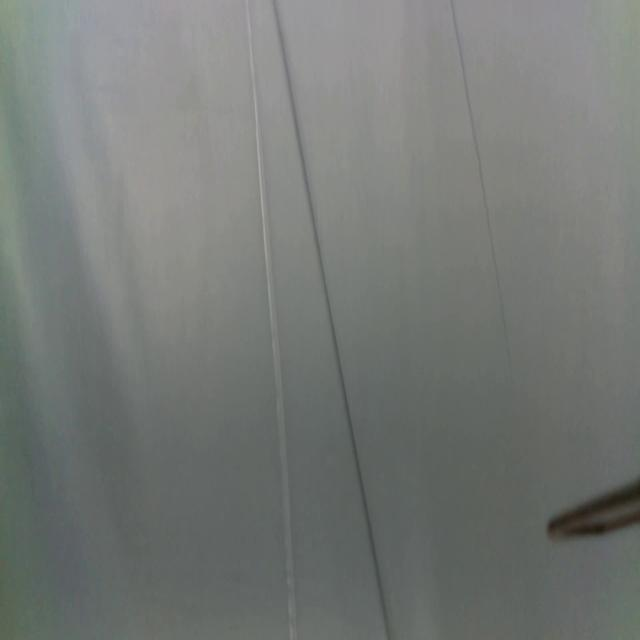crease: (275, 2, 393, 638), (243, 0, 298, 640), (448, 0, 514, 372)
